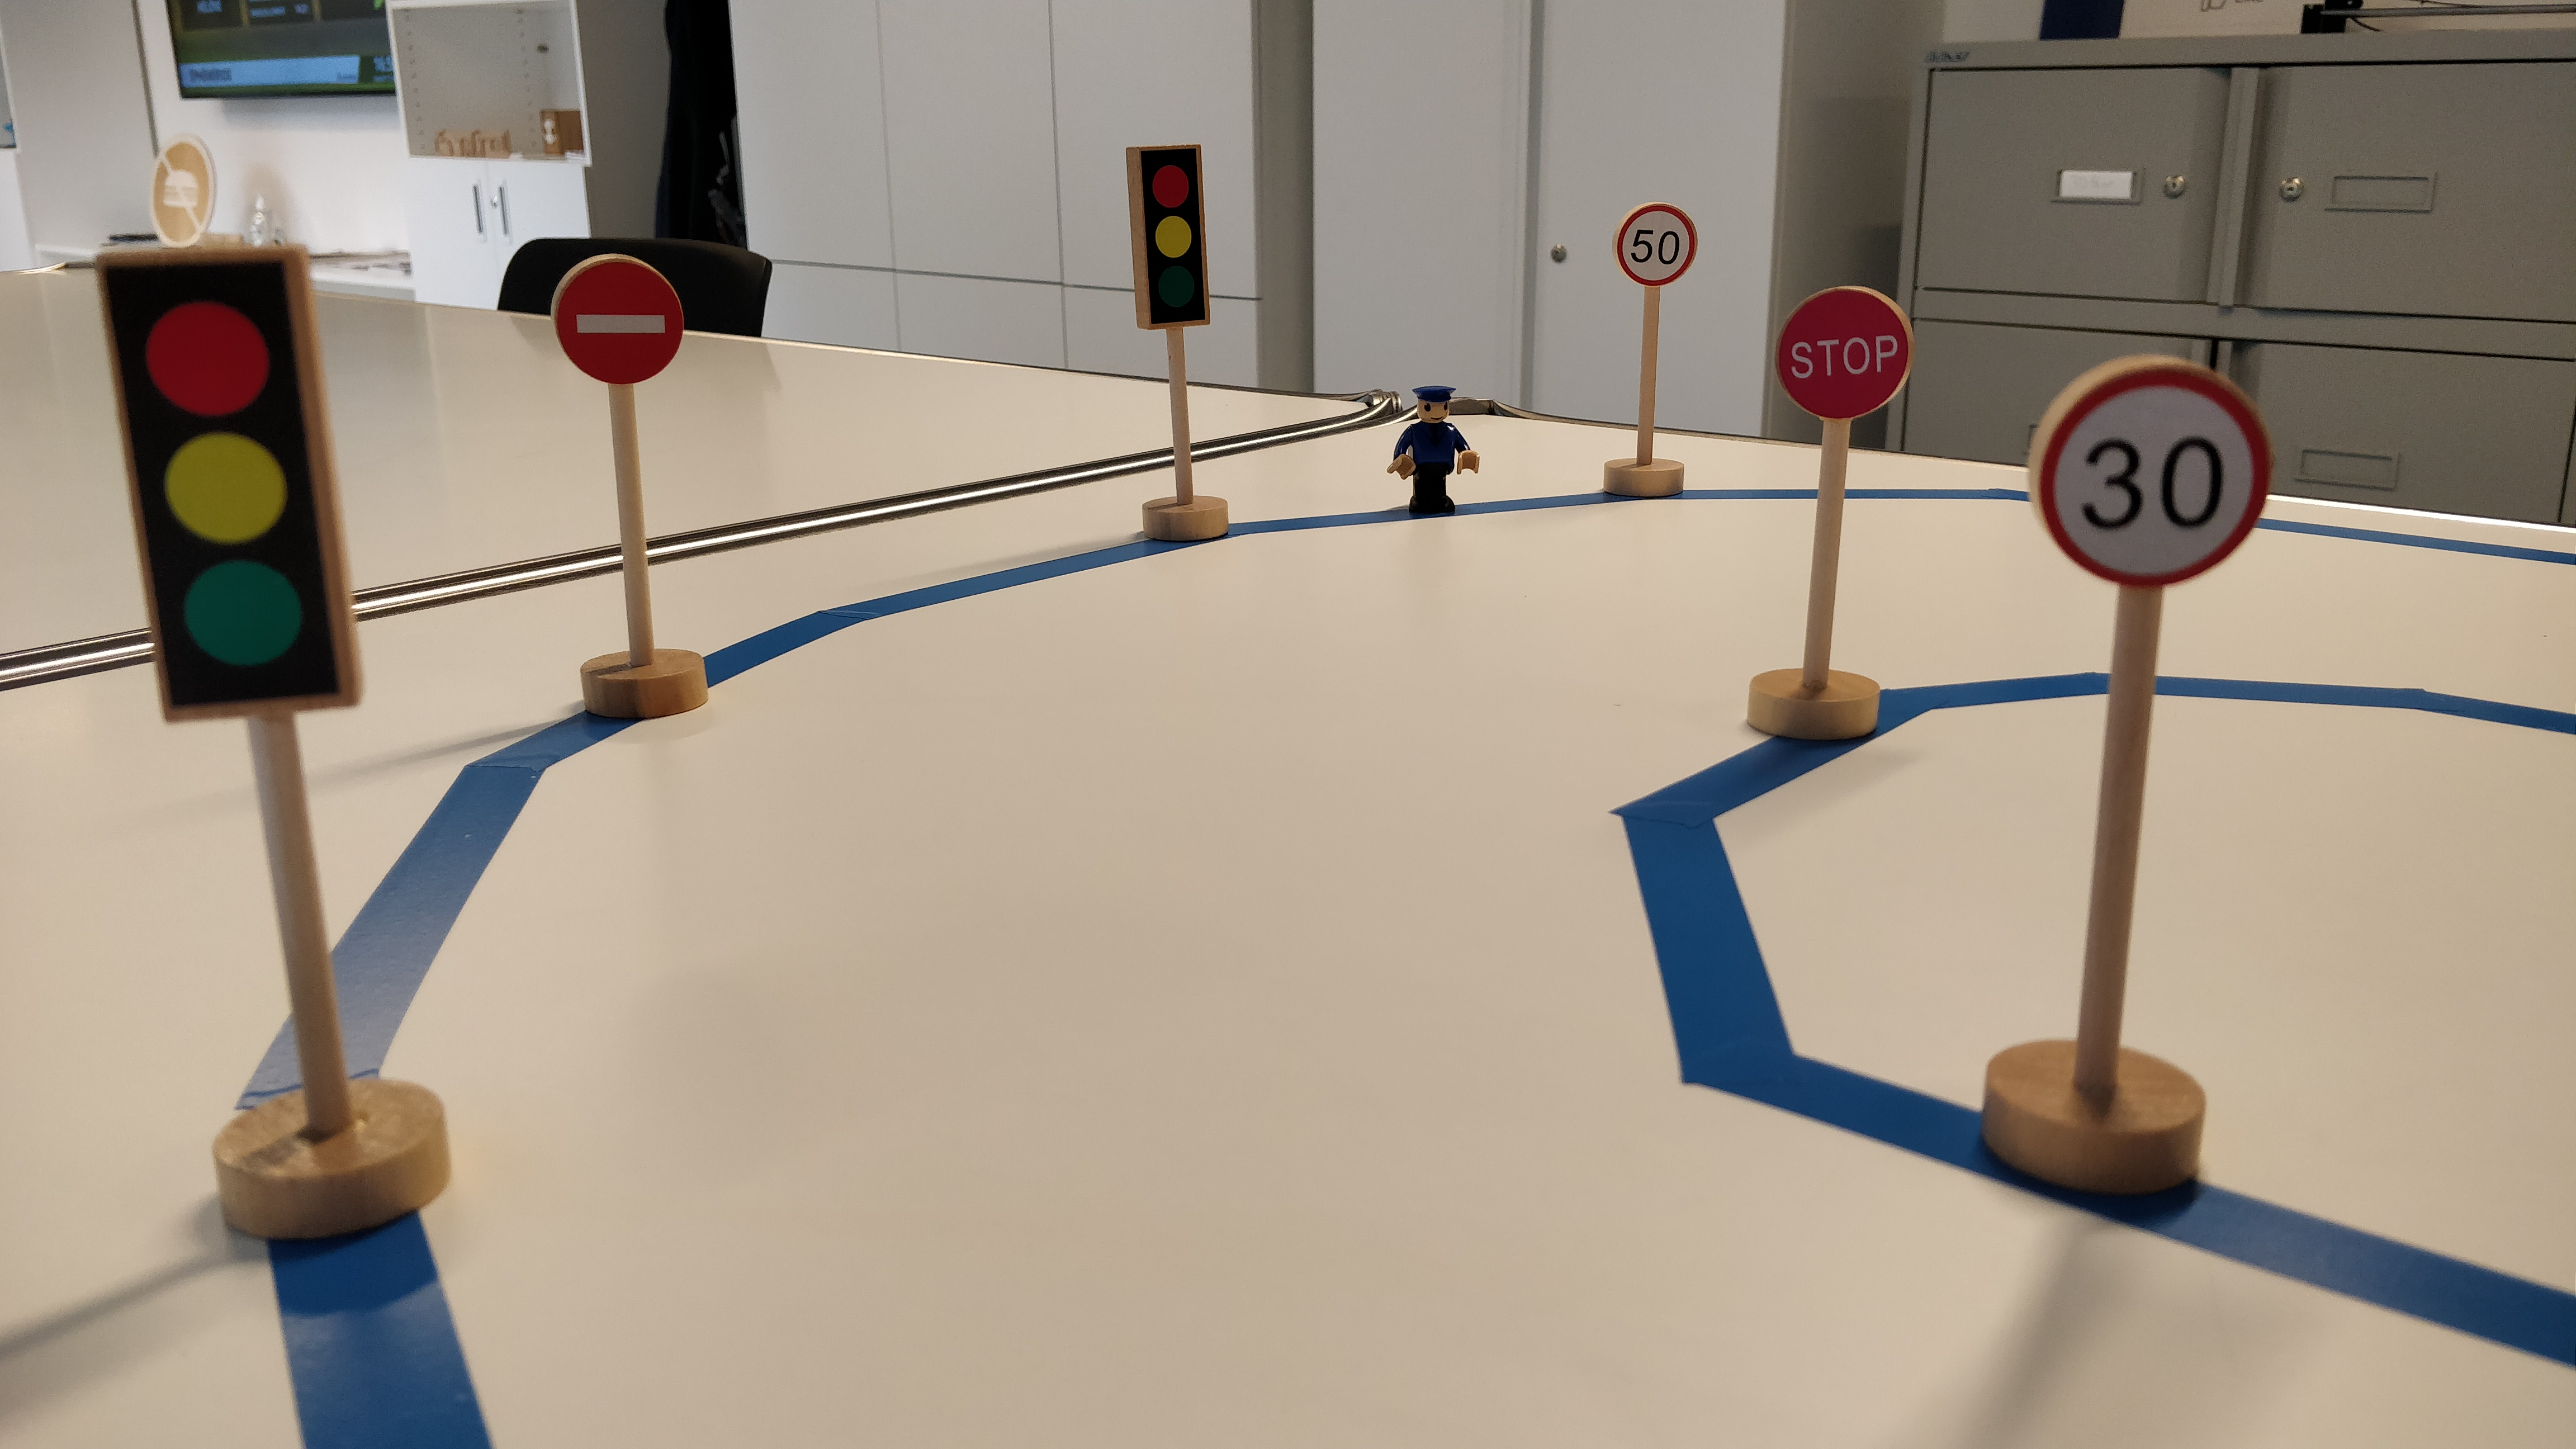Person: (1387, 378, 1484, 522)
Prohibition Sign: (543, 248, 690, 387)
Speed Limit 30: (2019, 353, 2280, 593)
Speed Limit 50: (1608, 196, 1706, 292)
Stop Sign: (1772, 283, 1916, 425)
Traffic Light: (87, 246, 372, 715), (1117, 143, 1220, 335)
